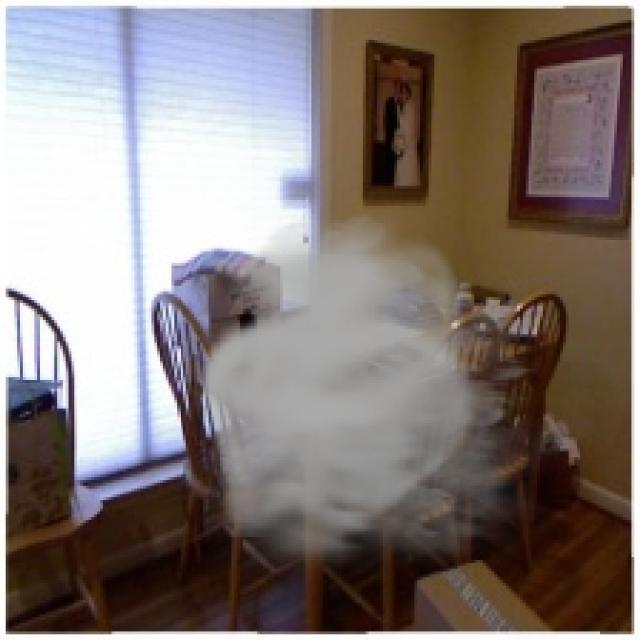smoke: (195, 214, 574, 586)
